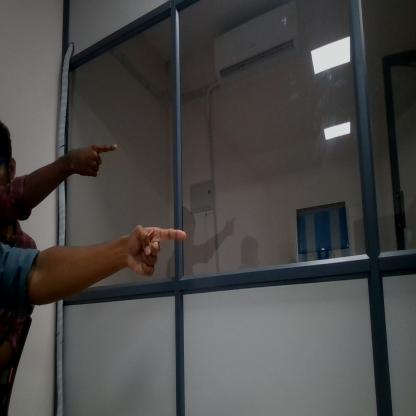Left: (122, 206, 188, 287), (74, 132, 121, 183)
